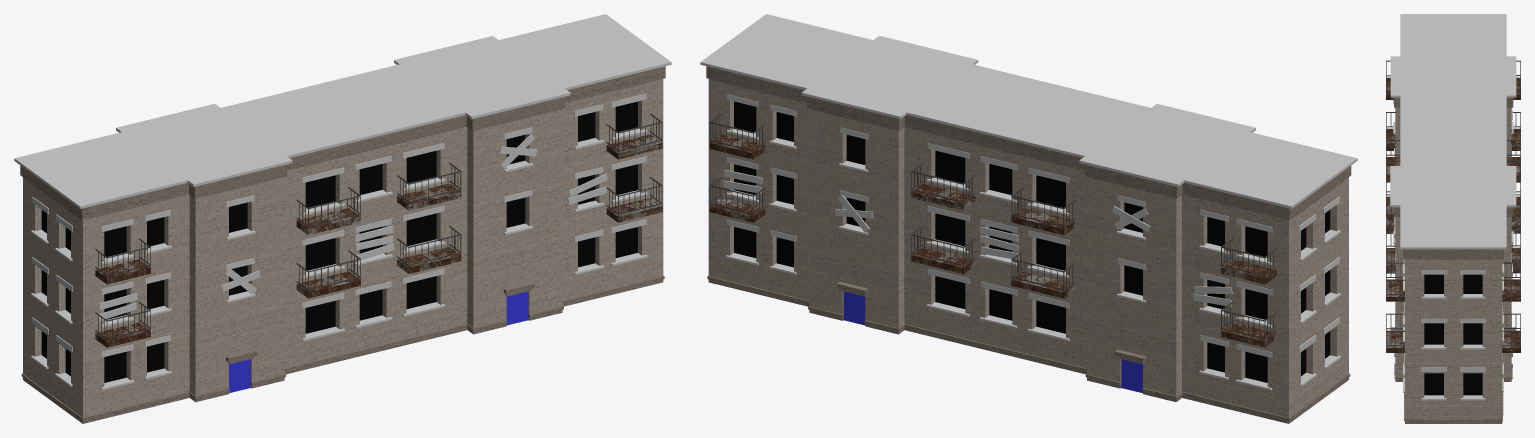
File: house last.fbx
3 renders of one model, left to right at view 1: azimuth 30°, elevation 25°; view 2: azimuth 150°, elevation 25°; view 3: azimuth 270°, elevation 25°, orthographic. The views are drawn at different scales.
Visible parts, largest first — view 1: Cube.001; view 2: Cube.001; view 3: Cube.001.
Boxes of the visible parts, <box> form: Cube.001: <box>14,14,671,423</box>; Cube.001: <box>700,14,1357,423</box>; Cube.001: <box>1386,14,1520,423</box>.
Size of the model in its own units: 4243 by 1515 by 1036.
